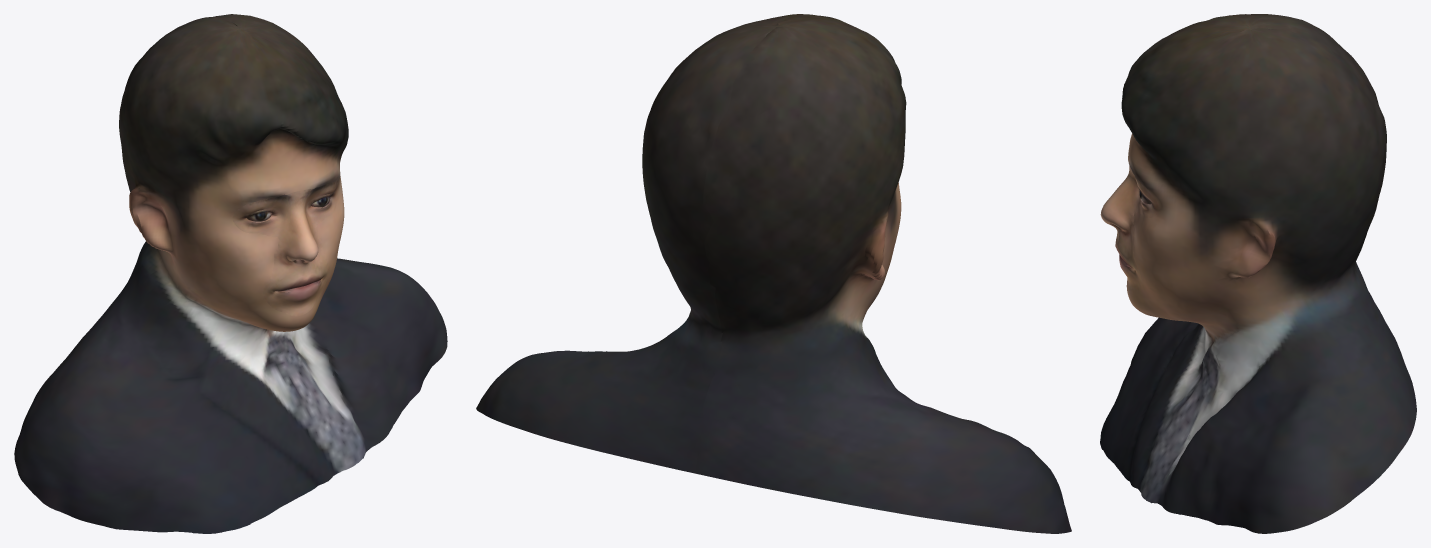
The model's file is martinez.gltf.
The picture shows the model from 3 angles, left to right: view 1: azimuth 30°, elevation 25°; view 2: azimuth 150°, elevation 25°; view 3: azimuth 270°, elevation 25°; orthographic projection. The views are drawn at different scales.
Visible parts, largest first — view 1: model.001; view 2: model.001; view 3: model.001.
Boxes of the visible parts, x1,y1,x2,y2 form: model.001: (14, 14, 447, 533); model.001: (476, 14, 1071, 533); model.001: (1100, 14, 1416, 533).
Size of the model in its own units: 191 by 173 by 109.
1 material, 1 textured.
